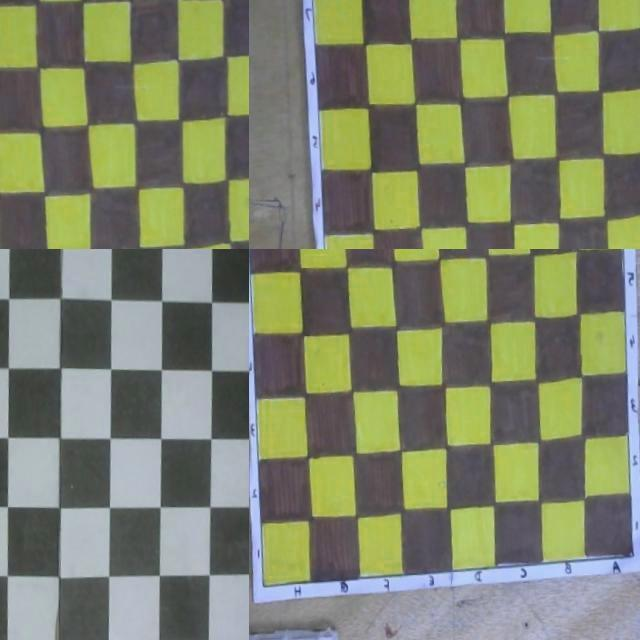chess-table-corners: (623, 554, 630, 562), (255, 580, 261, 589), (614, 249, 623, 253), (304, 0, 309, 4), (0, 249, 4, 253), (0, 0, 3, 4)
